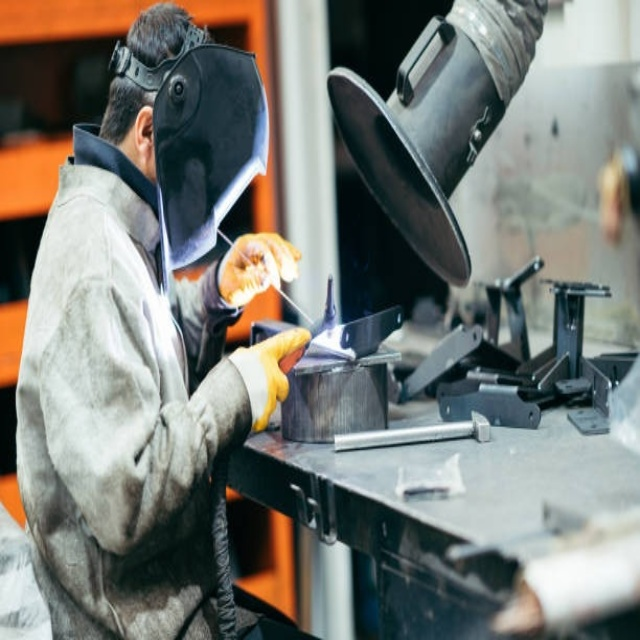Guantes: (229, 326, 311, 432), (218, 231, 301, 307), (598, 149, 631, 244)
